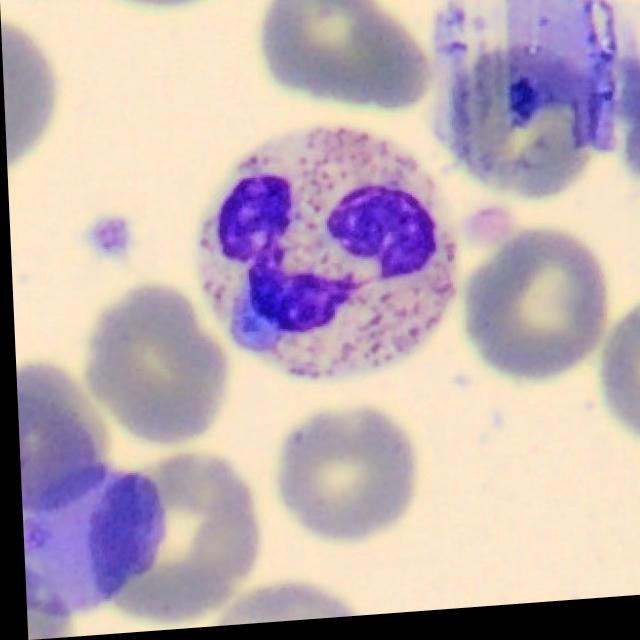Neutrofilo segmentado: (190, 128, 452, 387)
